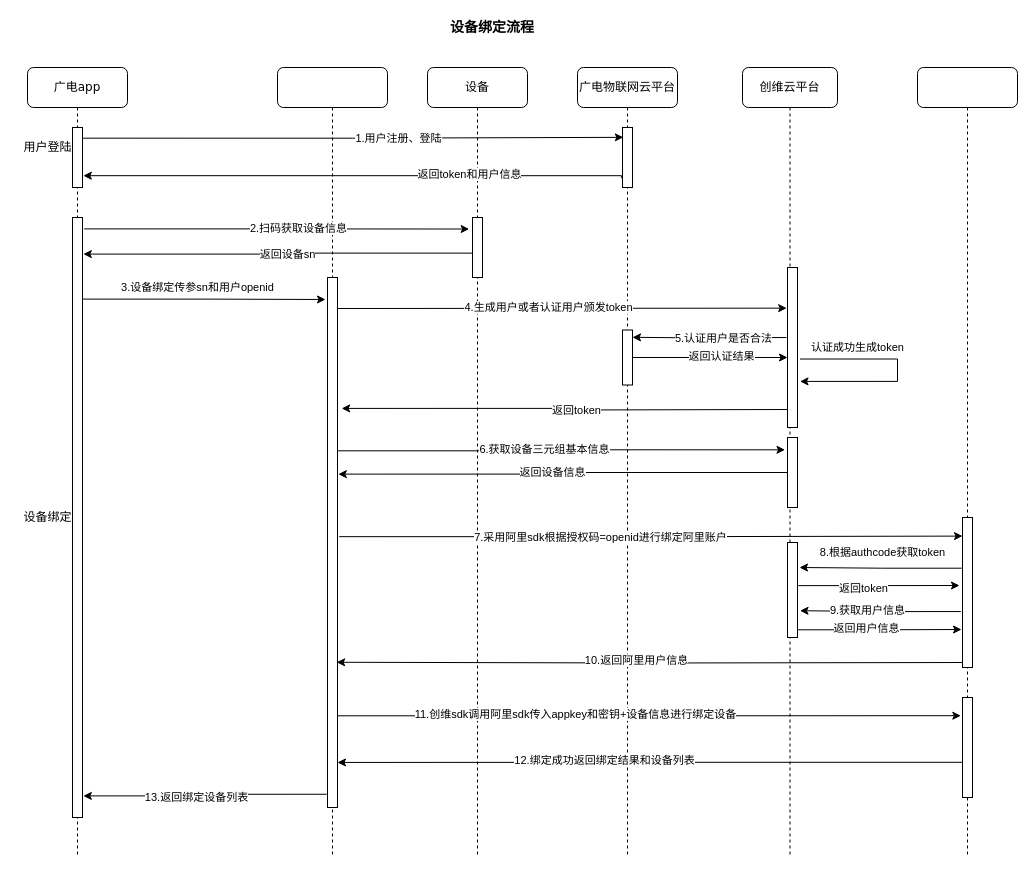
Some shapes in this 1035 by 875 pixel diagram are drawn without their labels. The box of each missing label's shape, as (x1, y1, x2, y2) in pixels:
创维sdk: (276, 66, 388, 858)
阿里飞燕平台: (916, 66, 1018, 858)
